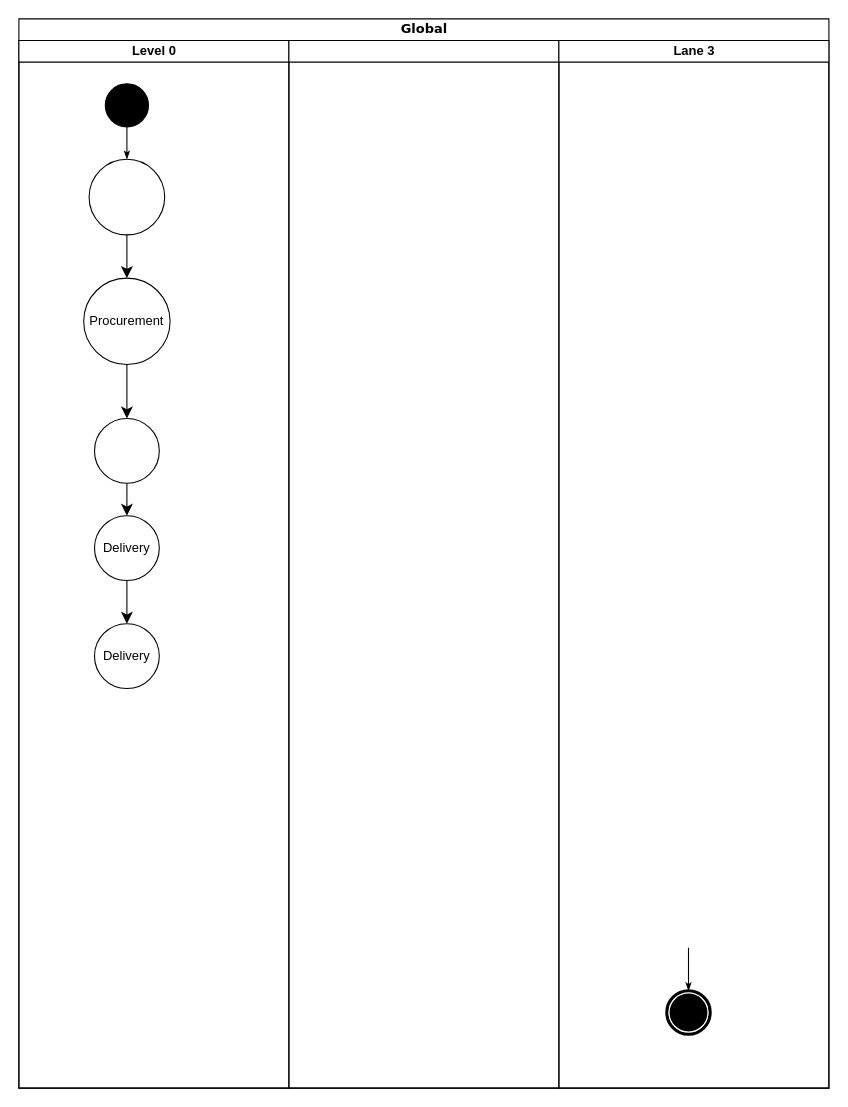
Some shapes in this 848 by 1107 pixel diagram are drawn without their labels. Here are the shapes that lost their labels. From the top down, the centre of each, then its label:
At [126,196]: "Ordering".
At [126,450]: "Storage".
At [423,563]: "Lane 2".
